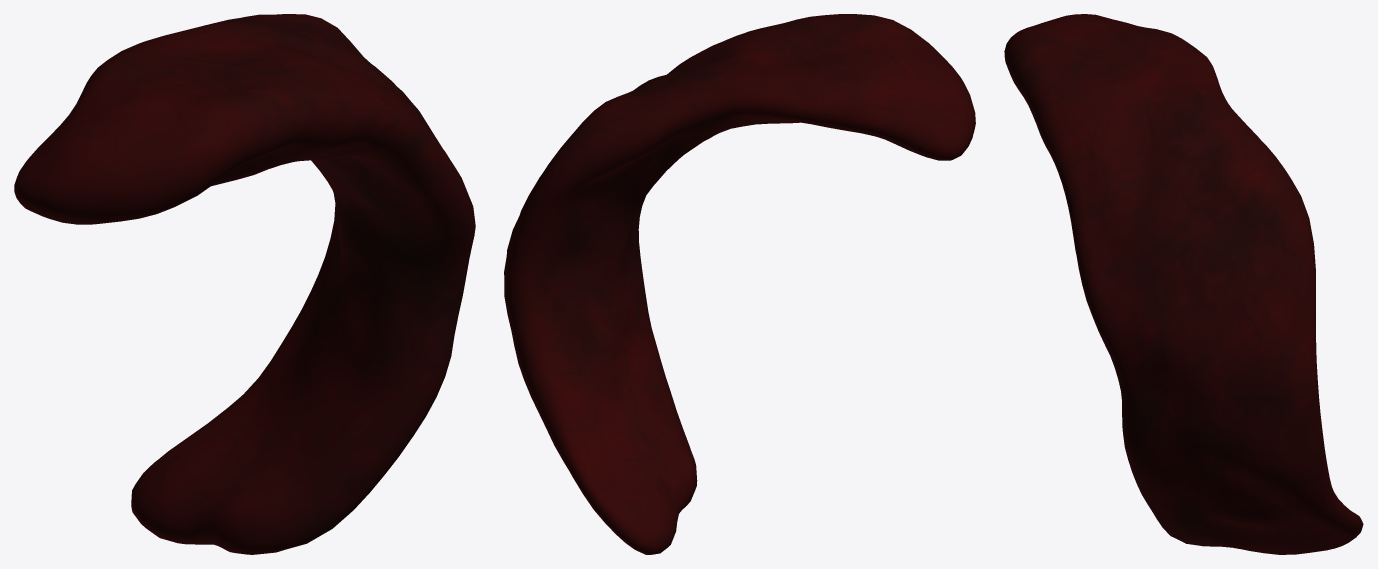
File: Spleen.glb
The picture shows the model from 3 angles, left to right: view 1: azimuth 30°, elevation 25°; view 2: azimuth 150°, elevation 25°; view 3: azimuth 270°, elevation 25°; orthographic projection. The views are drawn at different scales.
Parts seen in each view (by area): view 1: Spleen; view 2: Spleen; view 3: Spleen.
Boxes of the visible parts, x1=… form: Spleen: x1=14, y1=14, x2=475, y2=554; Spleen: x1=504, y1=14, x2=975, y2=554; Spleen: x1=1004, y1=14, x2=1363, y2=554.
Bounding box in the file's own units: 58.79 × 67.43 × 46.38.
1 material, 1 textured.
